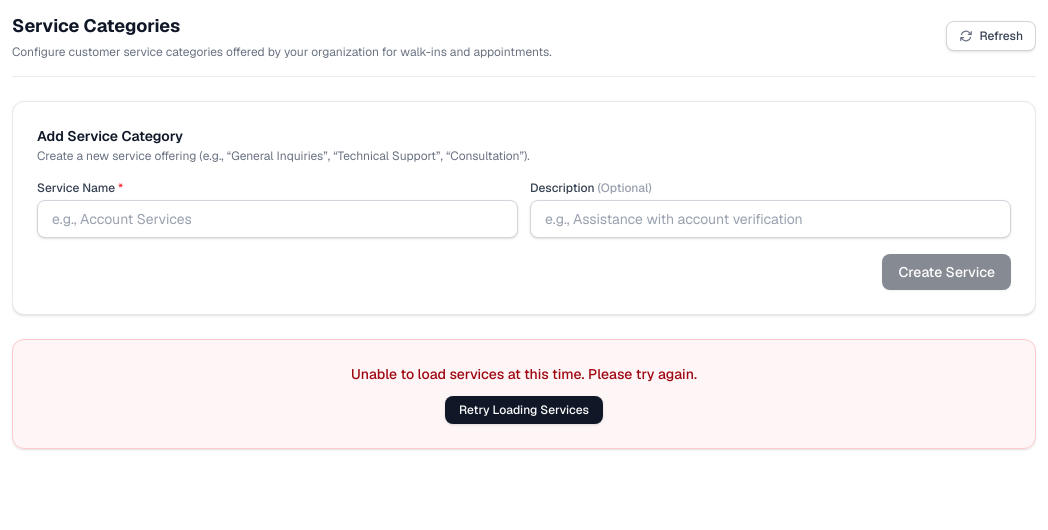
Test: components/admin/ServiceManagement › Initial service fetching and loading states › retries fetching when the retry button is clicked
Step 1. Click the button "Retry Loading Services" → (524, 410), box [445,396,603,424]
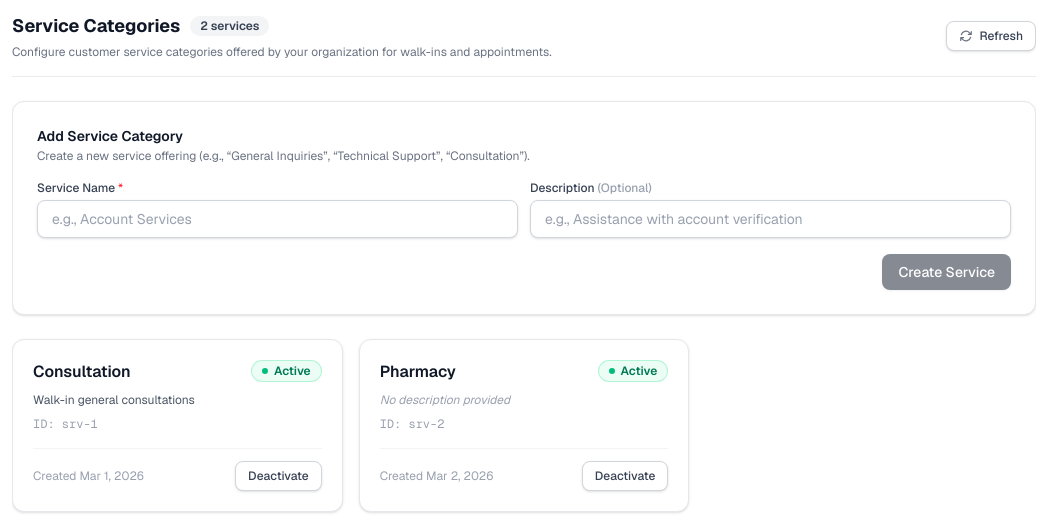
Expected: the heading "Consultation" is shown, [33,360,131,384]
Expected: the text "Unable to load services at this time. Please try again." is gone
